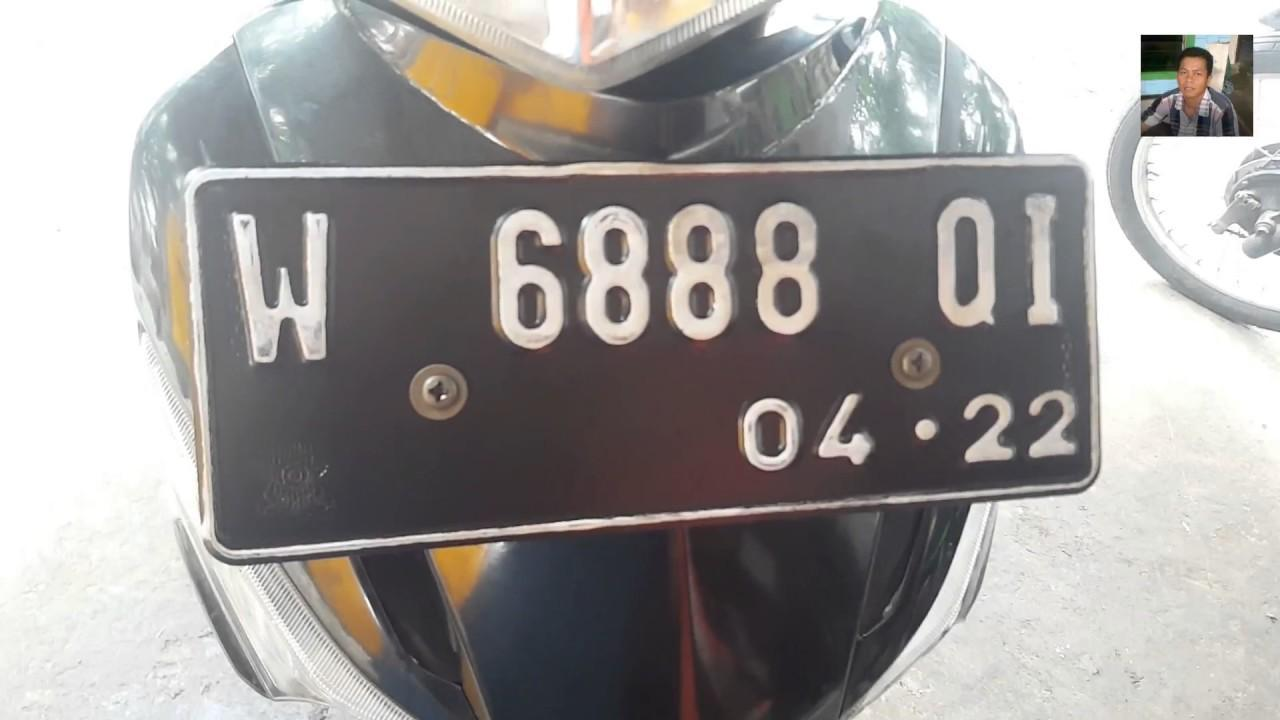clone-license-plate: (189, 182, 1093, 488)
